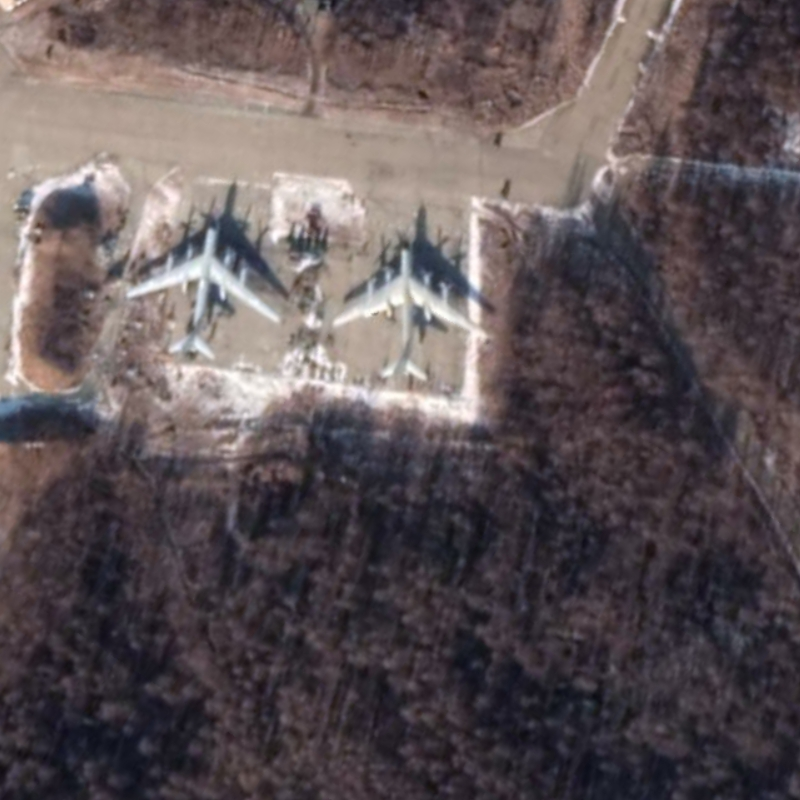A17: (118, 214, 287, 363), (325, 235, 490, 384)
